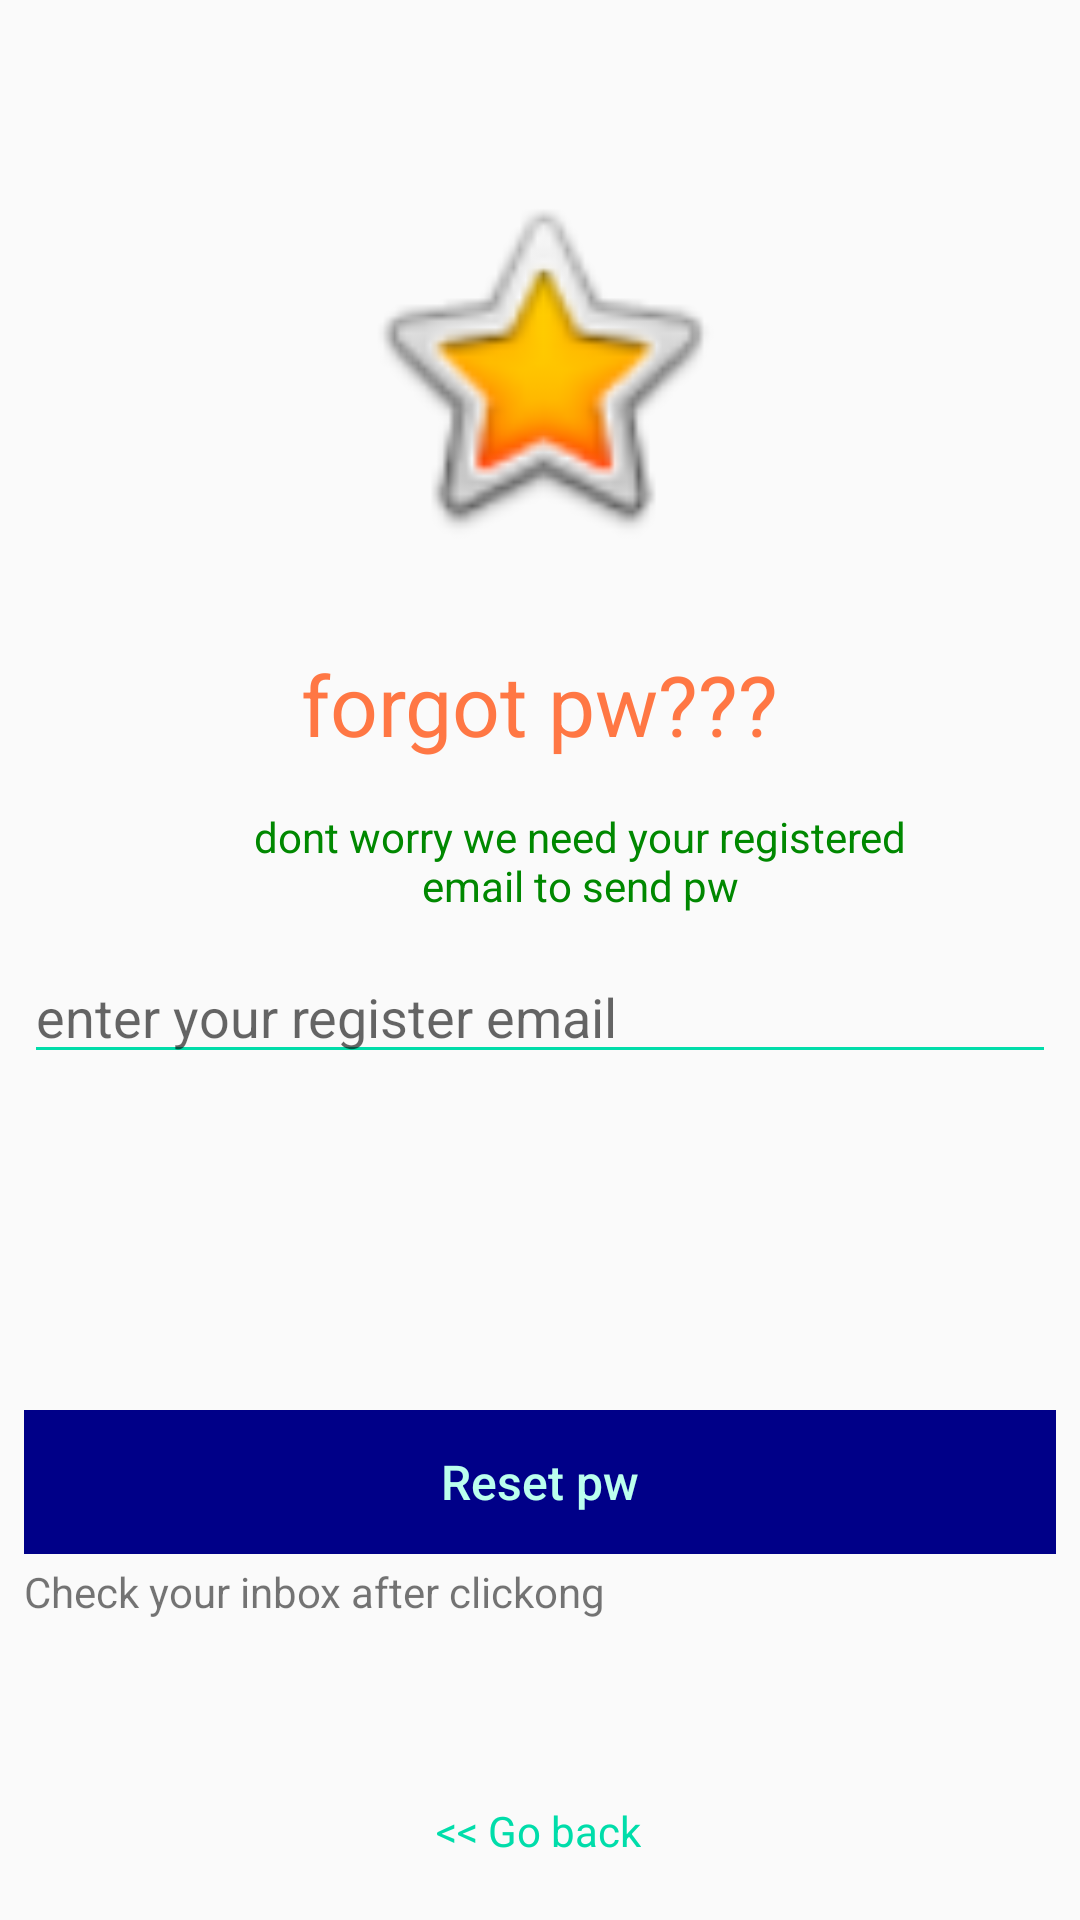

Named icons in this screenshot (1080*1920) and their centers, (x=x, y=y):
star on: (x=543, y=369)
